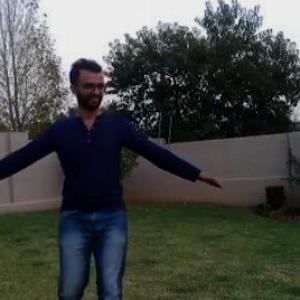land: (1, 45, 230, 299)
